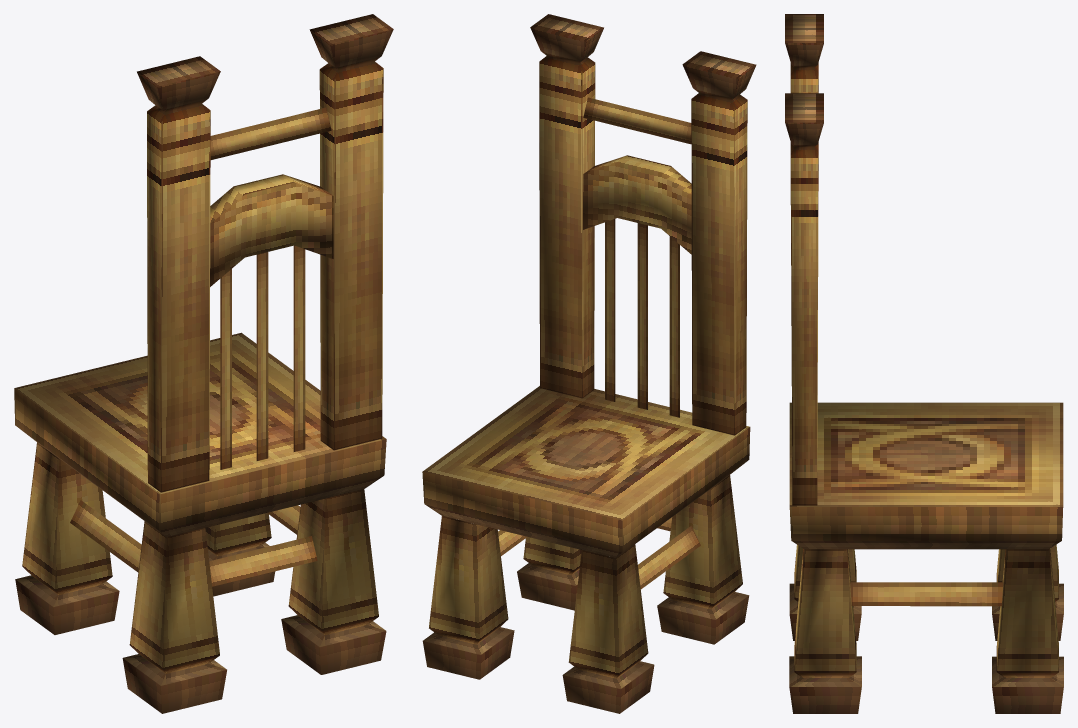
Rendered from c_SCchair01.glb.
3 views of the same model, side by side, from view 1: azimuth 30°, elevation 25°; view 2: azimuth 150°, elevation 25°; view 3: azimuth 270°, elevation 25° (orthographic). The views are drawn at different scales.
Visible parts, largest first — view 1: c_SCchair01; view 2: c_SCchair01; view 3: c_SCchair01.
Part boxes in pixels (x1=…): c_SCchair01: x1=14, y1=14, x2=393, y2=713; c_SCchair01: x1=422, y1=14, x2=756, y2=713; c_SCchair01: x1=785, y1=14, x2=1063, y2=713.
Size of the model in its own units: 0.4503 by 1.15 by 0.4888.
Materials: 1 (1 with a texture image).
